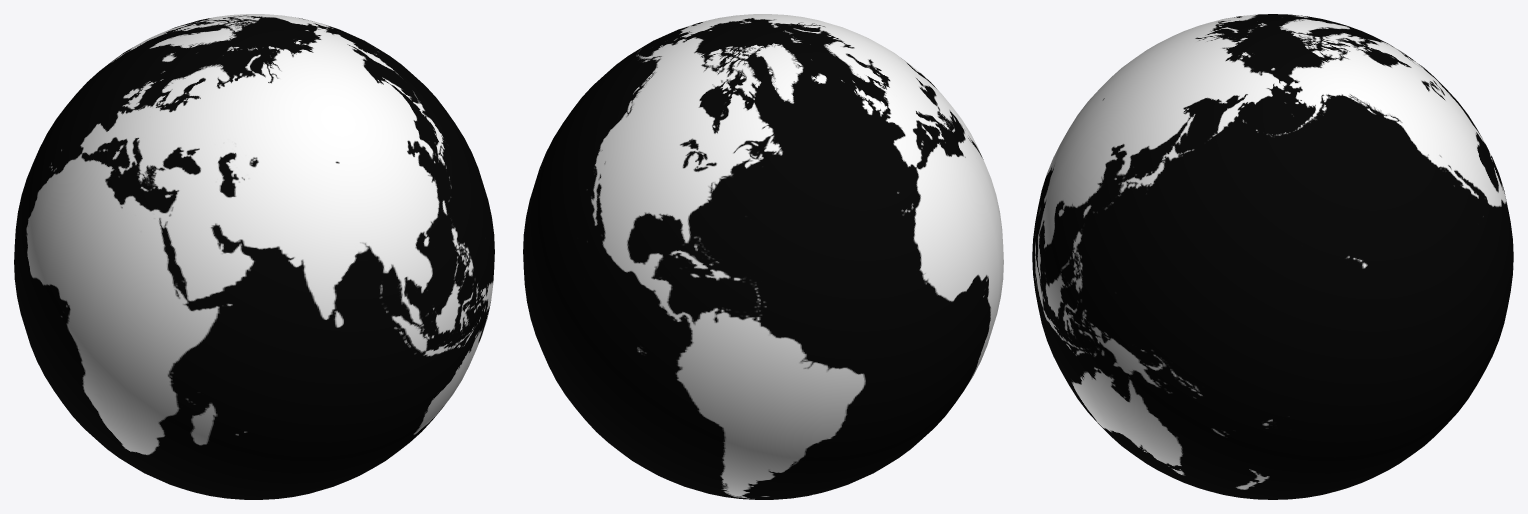
Rendered from earth2.obj.
3 views of the same model, side by side, from view 1: azimuth 30°, elevation 25°; view 2: azimuth 150°, elevation 25°; view 3: azimuth 270°, elevation 25° (orthographic).
Visible parts, largest first — view 1: pSphere002; view 2: pSphere002; view 3: pSphere002.
Part boxes in pixels (left/top/right/bottom): pSphere002: left=14, top=14, right=494, bottom=499; pSphere002: left=523, top=14, right=1003, bottom=499; pSphere002: left=1032, top=14, right=1513, bottom=499.
Size of the model in its own units: 303 by 307 by 303.
Materials: 1 (1 with a texture image).
